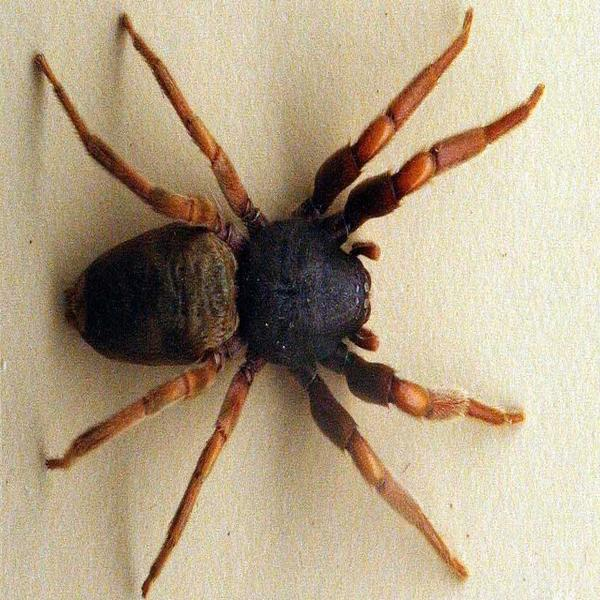White-Tailed Spider: (54, 29, 522, 573)
